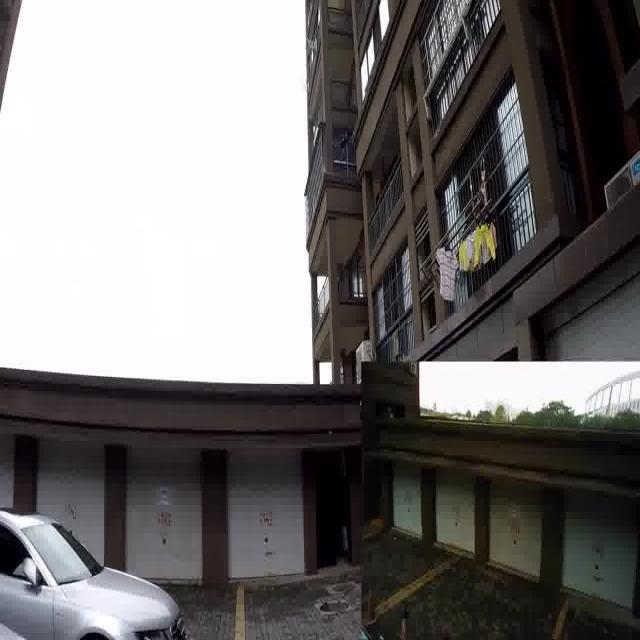drones: (329, 122, 358, 162)
